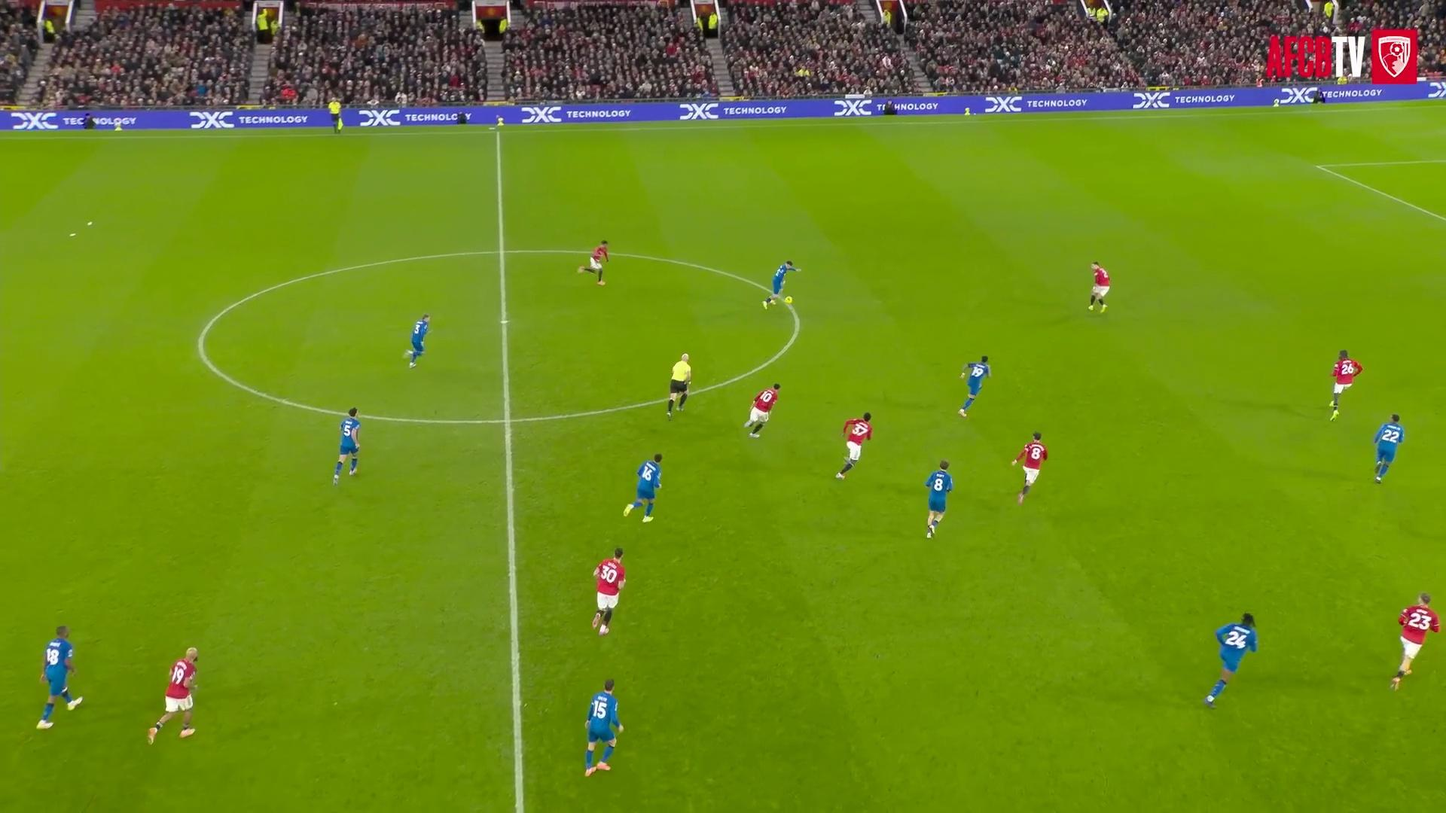football: (780, 290, 802, 314)
player: (1203, 613, 1257, 708), (148, 647, 197, 743), (37, 626, 82, 729), (1391, 593, 1439, 689), (584, 679, 623, 775), (592, 548, 624, 635), (1011, 431, 1047, 504), (624, 453, 662, 522), (836, 412, 871, 478), (1331, 349, 1362, 419), (1374, 414, 1404, 483), (334, 408, 360, 484), (926, 461, 952, 537), (744, 383, 779, 437), (959, 356, 990, 416), (763, 260, 800, 309), (578, 240, 609, 285), (407, 314, 429, 367), (1088, 262, 1109, 312)
referee: (667, 354, 691, 419), (328, 98, 343, 133)
